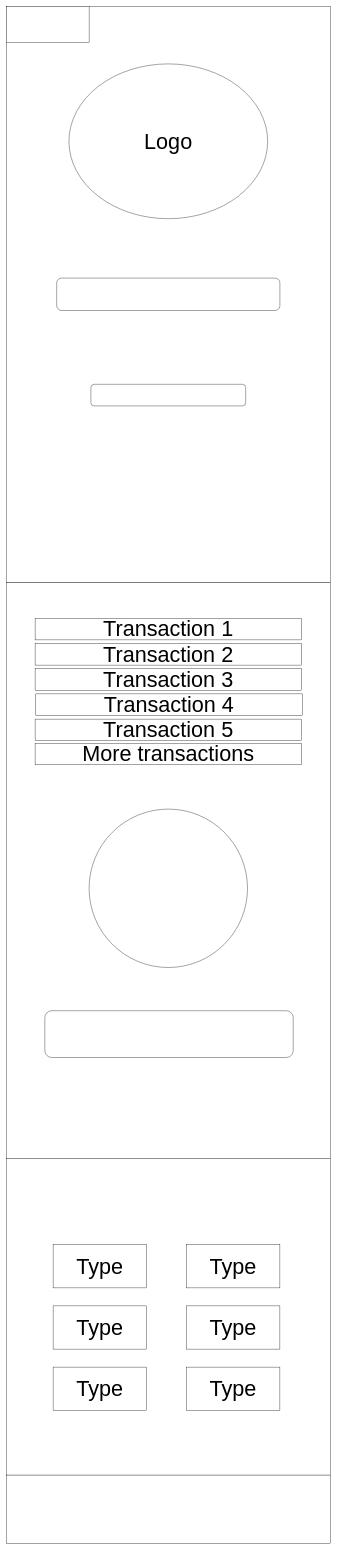
The diagram is 337 pixels wide and 1550 high, and some of its shapes have lost their labels. The shapes that lost their labels are listed below. From the top down, each one's box as (x1, y1, x2, y2) in pixels, then its label:
(6, 6, 89, 42): Return
(56, 278, 280, 310): Search Bar
(91, 384, 246, 406): add
(89, 809, 248, 968): Pie Chart
(44, 1010, 293, 1058): Budget bar
(6, 1475, 330, 1544): Footer Link
